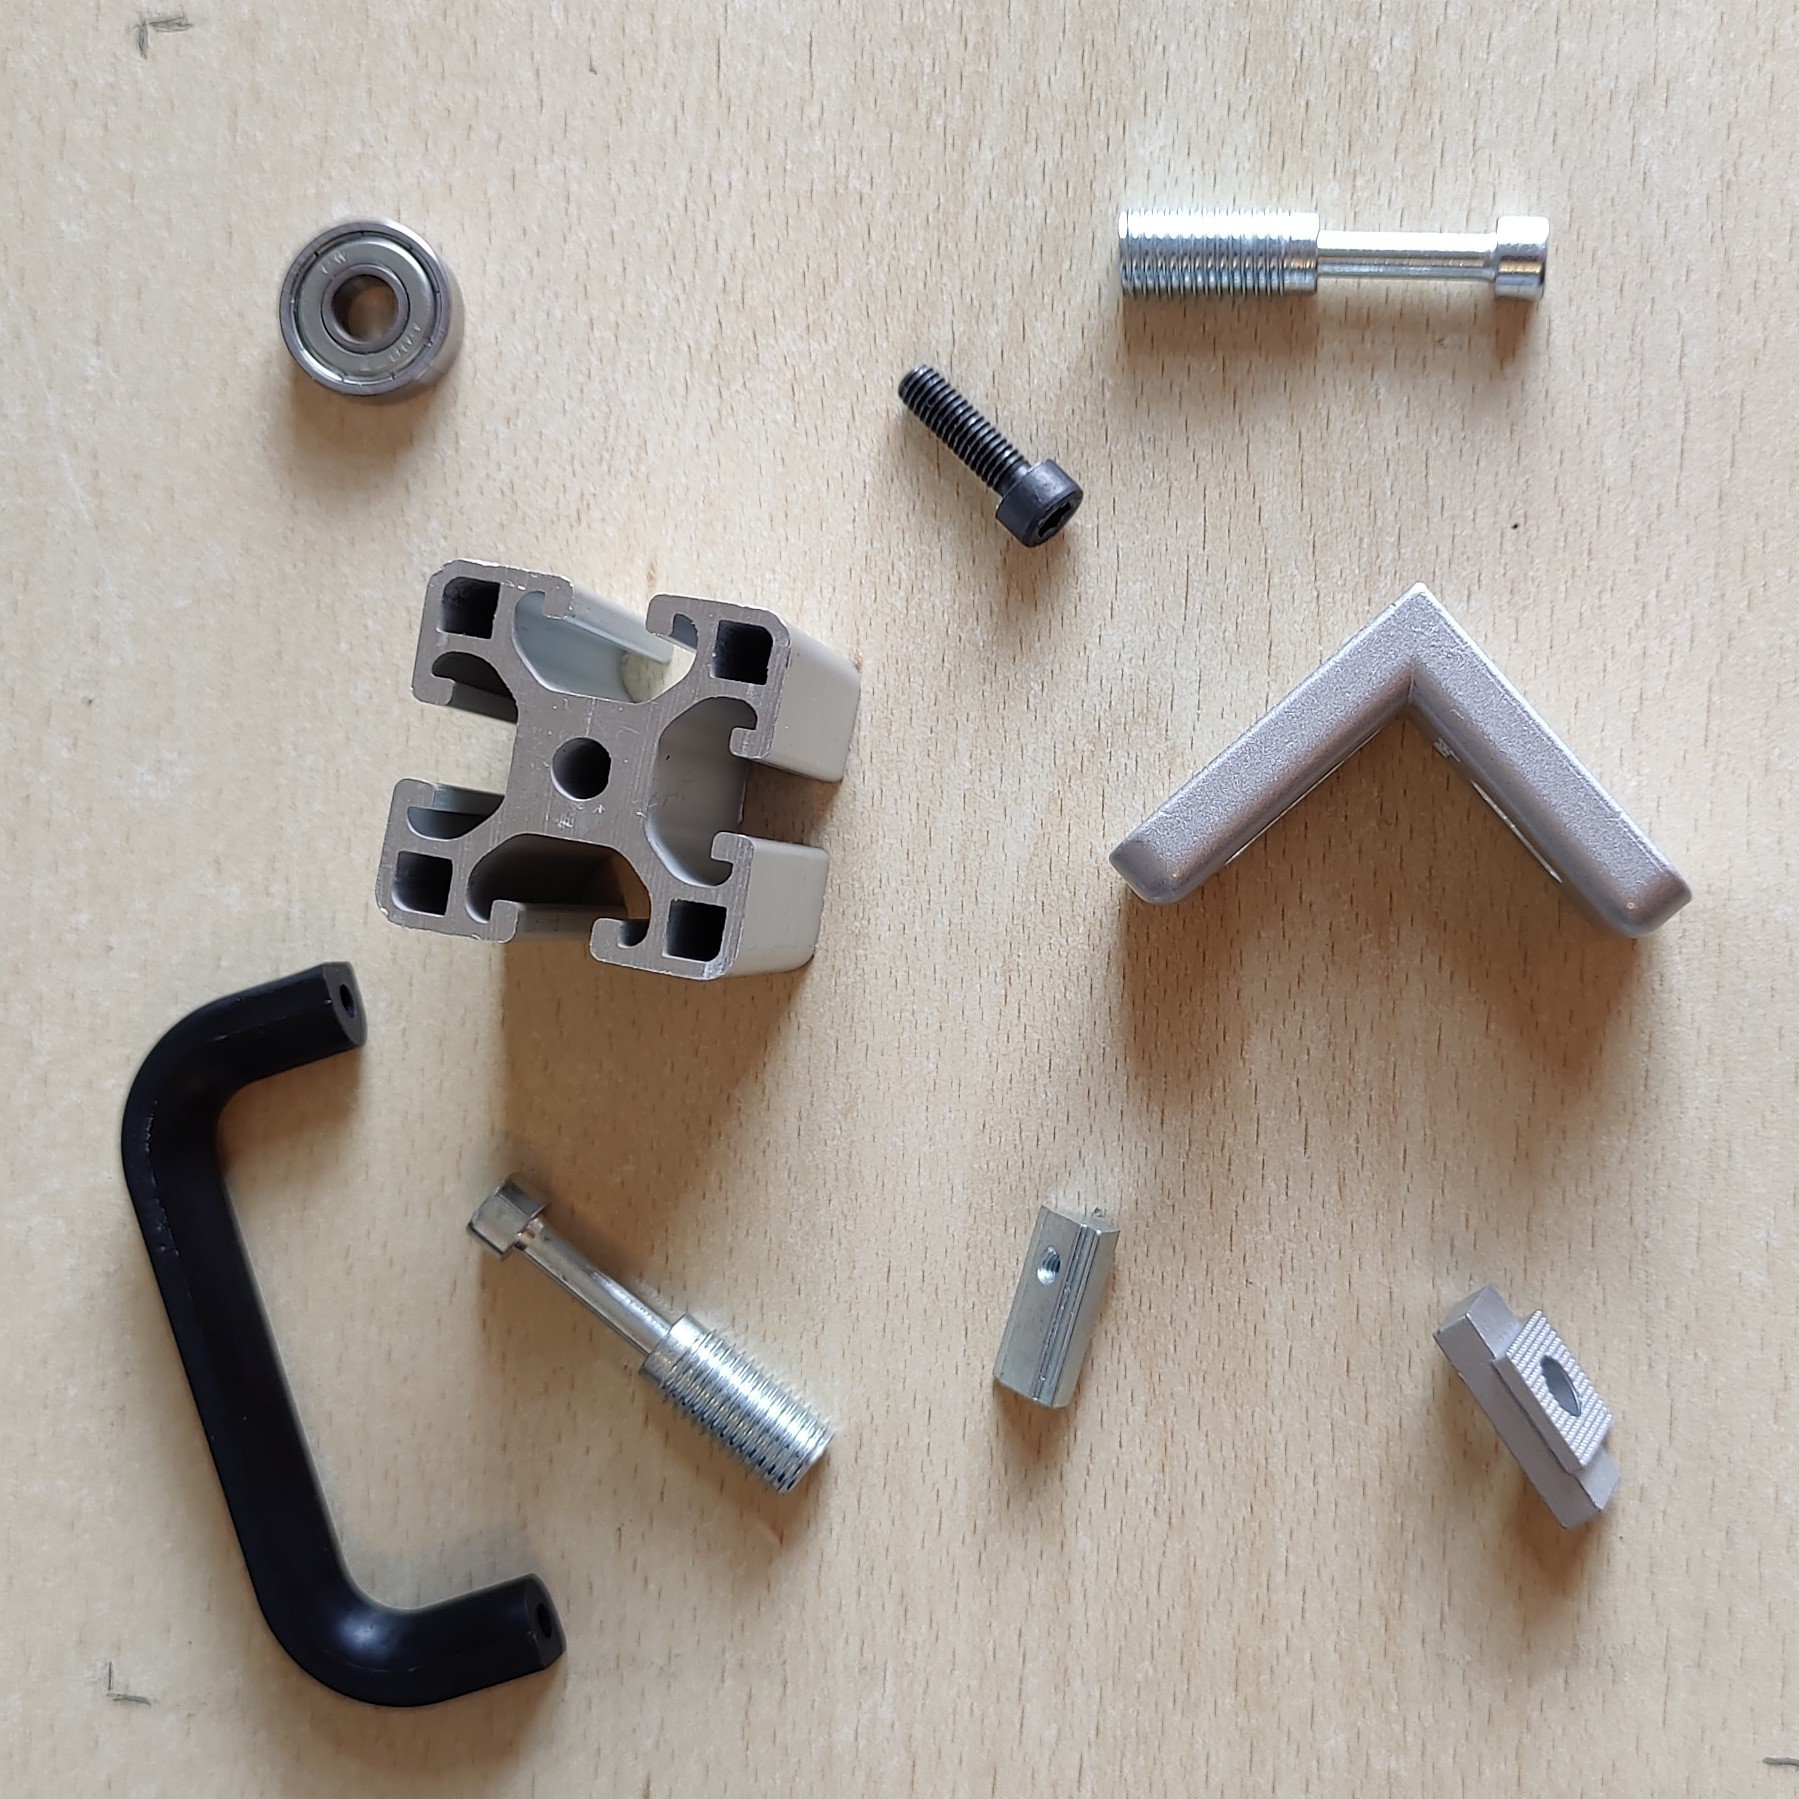Aluminium Extension: (372, 554, 863, 984)
Ball Bearing: (277, 217, 466, 405)
Multiwinkel: (1107, 580, 1695, 941)
Pull Handle: (119, 960, 568, 1710)
Shoulder Socket Head Cap Screw: (461, 1165, 839, 1494), (1112, 199, 1554, 306)
Socket Head Cap Screw: (895, 361, 1086, 549)
T Nut Square: (1428, 1275, 1626, 1534)
T Spring Nut: (987, 1198, 1124, 1410)
